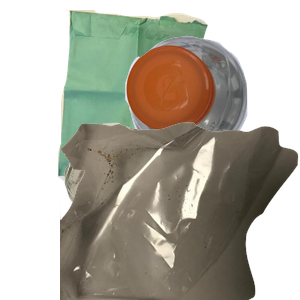glass: (62, 120, 300, 300)
paper: (55, 10, 255, 190)
plastic: (123, 33, 300, 181)
trash: (60, 120, 300, 300)
